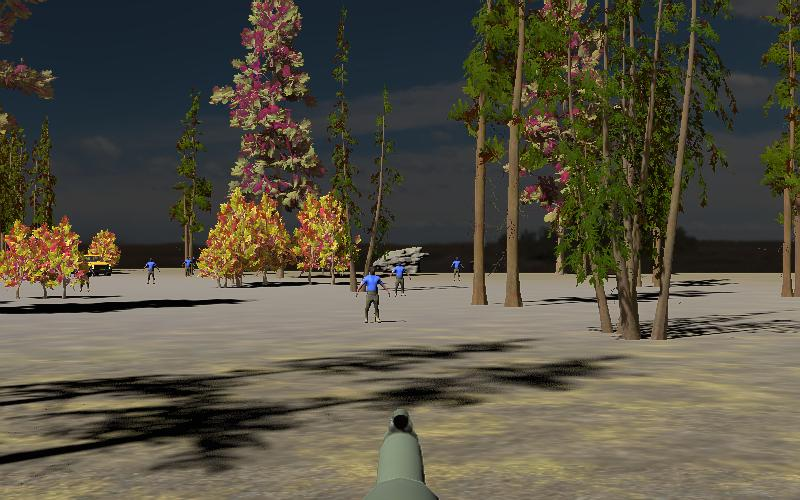Human: (357, 265, 389, 325), (392, 260, 410, 298), (449, 255, 464, 284), (144, 257, 158, 286), (143, 257, 156, 286), (182, 254, 194, 279)
car: (78, 253, 113, 277)
